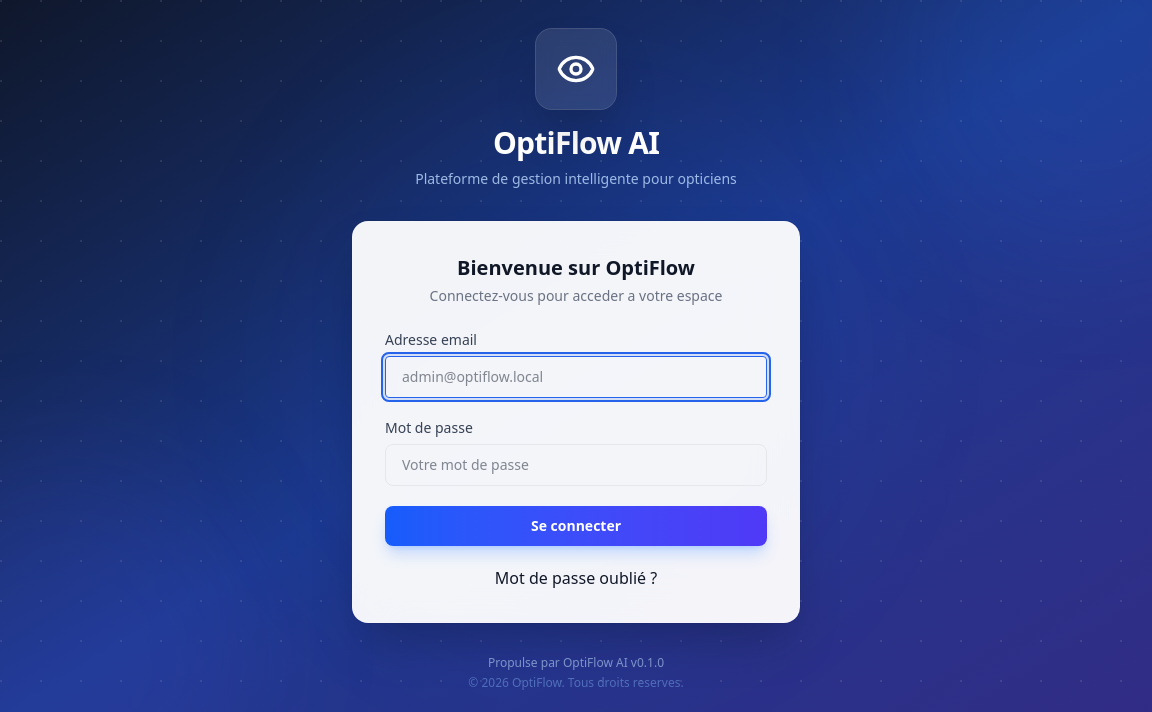
Scenario: Login Flow - E2E style › shows error message when login fails
The width and height of the screenshot is (1152, 712).
Type "wrong@test.com" into the field with placeholder "admin@optiflow.local" at (576, 377), box [385, 356, 767, 398]
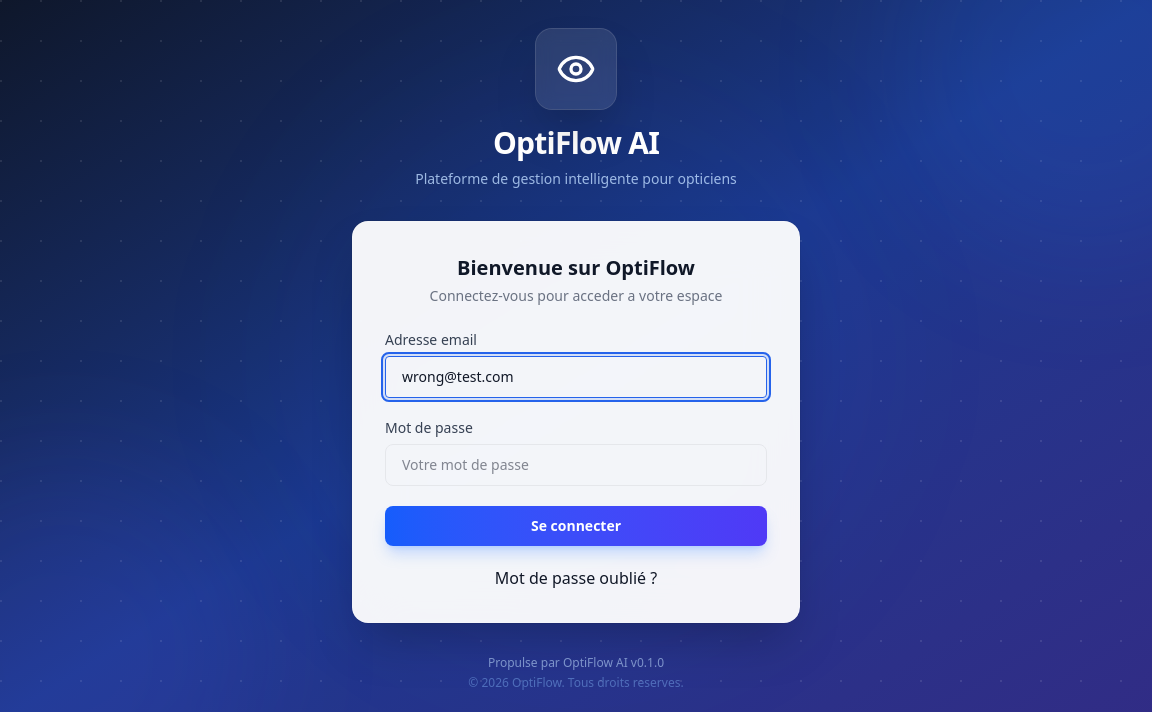
Type "badpassword" into the password field with placeholder "Votre mot de passe" at (576, 465), box [385, 444, 767, 486]
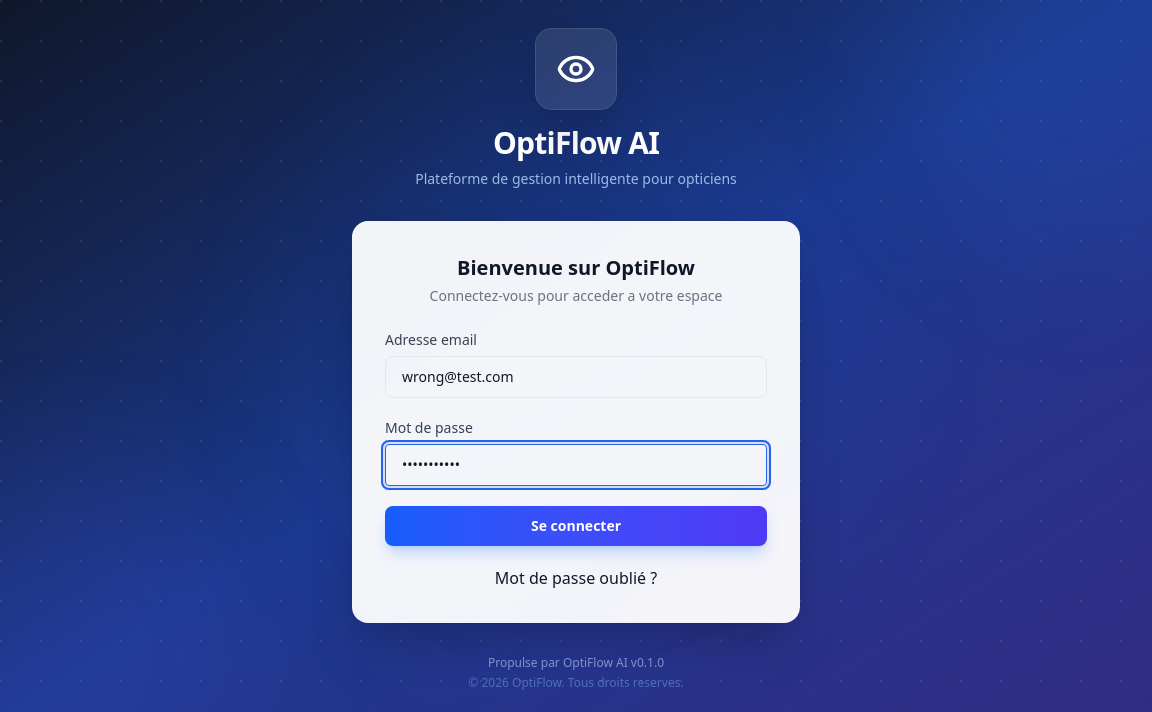
Click the button "Se connecter" at (576, 526), box [385, 506, 767, 546]
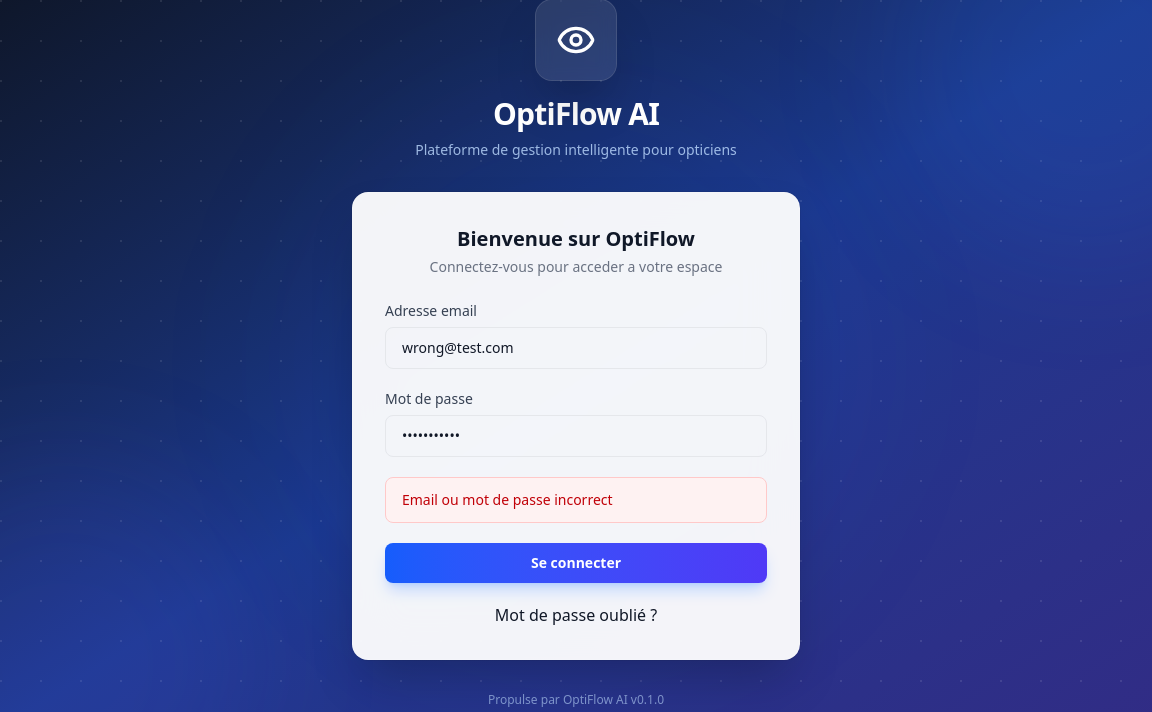
Now the text "Email ou mot de passe incorrect" is shown, box [385, 477, 767, 523]
